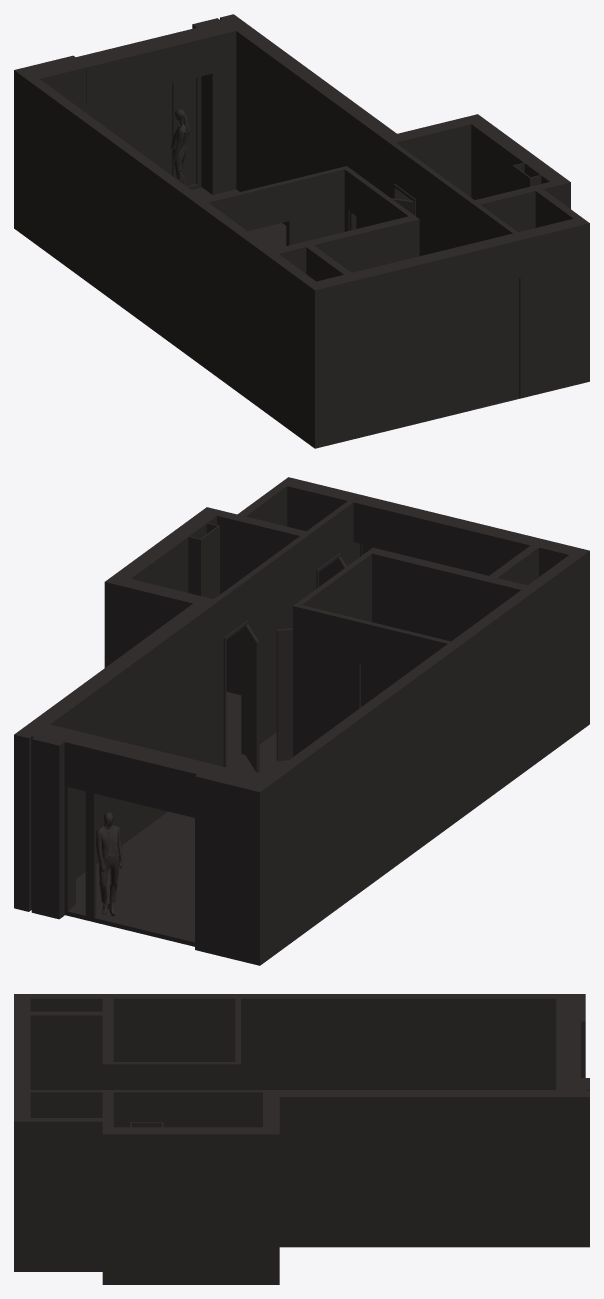
The model's file is e093c8f9e9-apartment_a_020_draco-decoded.glb.
3 renders of one model, top to bottom at view 1: azimuth 30°, elevation 25°; view 2: azimuth 150°, elevation 25°; view 3: azimuth 270°, elevation 25°, orthographic. The views are drawn at different scales.
Visible parts, largest first — view 1: apartment_a_020, APTGLAZ; view 2: apartment_a_020, APTGLAZ; view 3: apartment_a_020.
Boxes of the visible parts, x1,y1,x2,y2 form: apartment_a_020: (14, 14, 589, 448); APTGLAZ: (86, 78, 196, 186); apartment_a_020: (14, 477, 589, 965); APTGLAZ: (361, 664, 404, 706); apartment_a_020: (14, 994, 589, 1284).
Size of the model in its own units: 6 by 3 by 10.41.
Materials: 1 (1 with a texture image).
